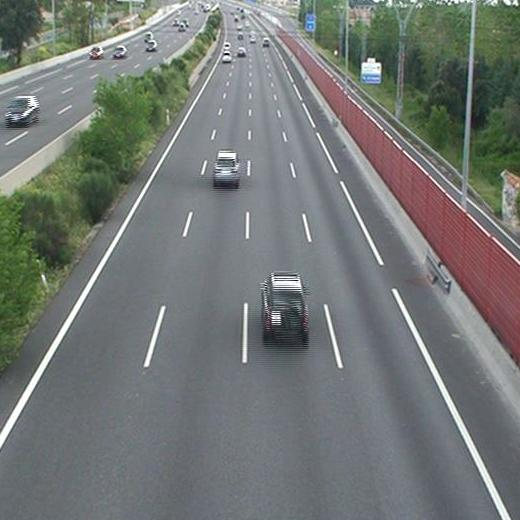car: (261, 274, 308, 335), (214, 152, 241, 183), (222, 51, 231, 62), (237, 47, 248, 56), (262, 38, 270, 48)
